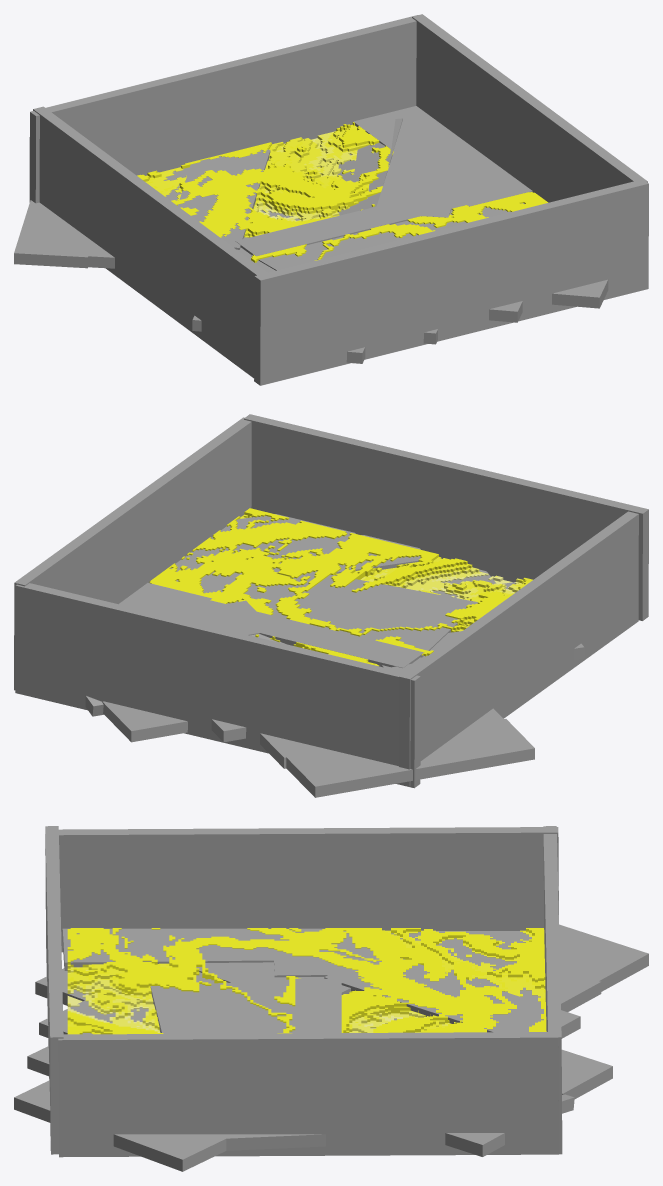
File: Desert_Map.fbx
3 renders of one model, top to bottom at view 1: azimuth 30°, elevation 25°; view 2: azimuth 150°, elevation 25°; view 3: azimuth 270°, elevation 25°, orthographic. The views are drawn at different scales.
Visible parts, largest first — view 1: pCube20, pCube19, pCube22, pCube21, pCube3, pCube2, pCube1, pCube9, Destert Map-23, Destert Map-11, pCube6, pCube16 (+12 smaller); view 2: pCube19, pCube20, pCube22, pCube21, pCube16, pCube9, pCube1, Destert Map-15, Destert Map-6, Destert Map-2, Destert Map-3, Destert Map-17 (+12 smaller); view 3: pCube21, pCube22, pCube16, pCube10, pCube20, pCube9, pCube15, pCube6, Destert Map-4, pCube19, Destert Map-19, Destert Map-8 (+20 smaller).
Boxes of the visible parts, bbox=[...] form: pCube20: bbox=[254, 179, 648, 385]; pCube19: bbox=[29, 15, 417, 203]; pCube22: bbox=[33, 106, 267, 378]; pCube21: bbox=[412, 14, 647, 202]; pCube3: bbox=[374, 115, 470, 217]; pCube2: bbox=[353, 106, 532, 206]; pCube1: bbox=[235, 185, 512, 256]; pCube9: bbox=[14, 200, 92, 268]; Destert Map-23: bbox=[237, 177, 349, 224]; Destert Map-11: bbox=[269, 126, 385, 178]; pCube6: bbox=[178, 149, 270, 249]; pCube16: bbox=[251, 203, 524, 270]; pCube19: bbox=[15, 583, 420, 788]; pCube20: bbox=[244, 414, 648, 620]; pCube22: bbox=[399, 511, 638, 786]; pCube21: bbox=[14, 417, 251, 690]; pCube16: bbox=[170, 550, 477, 657]; pCube9: bbox=[286, 719, 534, 797]; pCube1: bbox=[198, 600, 423, 667]; Destert Map-15: bbox=[360, 545, 476, 594]; Destert Map-6: bbox=[281, 526, 400, 579]; Destert Map-2: bbox=[162, 540, 280, 590]; Destert Map-3: bbox=[206, 508, 324, 557]; Destert Map-17: bbox=[237, 558, 356, 606]; pCube21: bbox=[58, 1032, 558, 1157]; pCube22: bbox=[59, 827, 558, 952]; pCube16: bbox=[150, 980, 325, 1150]; pCube10: bbox=[62, 928, 367, 970]; pCube20: bbox=[45, 826, 63, 1154]; pCube9: bbox=[445, 924, 648, 991]; pCube15: bbox=[14, 1080, 234, 1171]; pCube6: bbox=[324, 951, 580, 1038]; Destert Map-4: bbox=[67, 965, 163, 1015]; pCube19: bbox=[543, 826, 562, 1154]; Destert Map-19: bbox=[355, 965, 450, 1014]; Destert Map-8: bbox=[355, 928, 450, 968].
Size of the model in its own units: 2169 by 450 by 2120.
